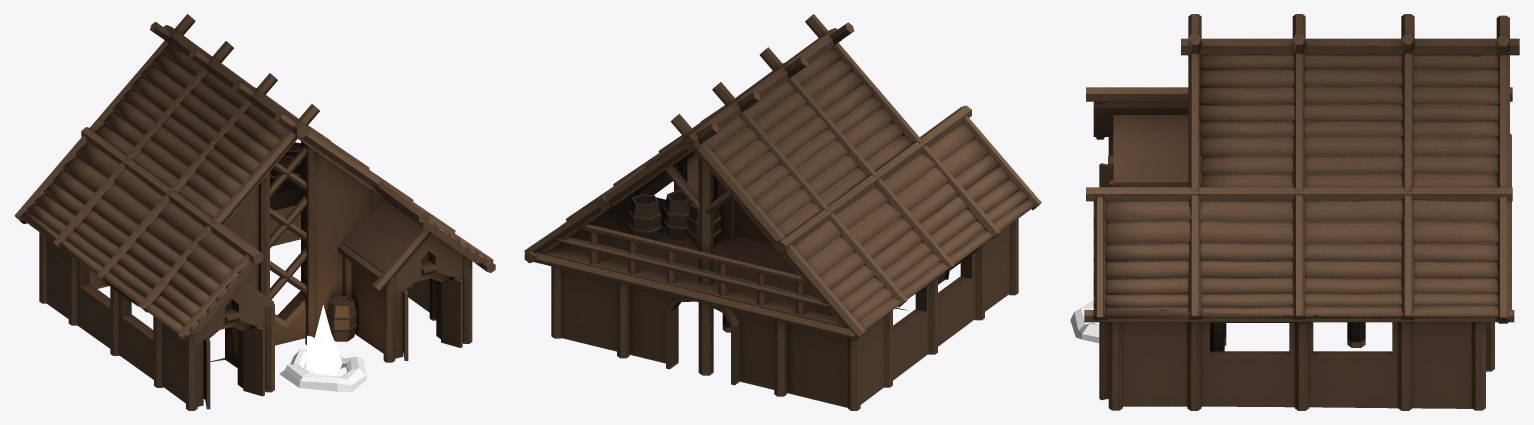
The model's file is guildhallv1.gltf.
3 renders of one model, left to right at view 1: azimuth 30°, elevation 25°; view 2: azimuth 150°, elevation 25°; view 3: azimuth 270°, elevation 25°, orthographic. The views are drawn at different scales.
Parts seen in each view (by area): view 1: Cube.009, Icosphere.001; view 2: Cube.009; view 3: Cube.009.
Boxes of the visible parts, x1=… form: Cube.009: x1=14, y1=14, x2=495, y2=410; Icosphere.001: x1=306, y1=305, x2=342, y2=375; Cube.009: x1=524, y1=14, x2=1041, y2=410; Cube.009: x1=1070, y1=14, x2=1519, y2=410.
Size of what is drawn, in the model's own units: 9.76 by 7.48 by 9.76.
4 materials, 1 textured.
